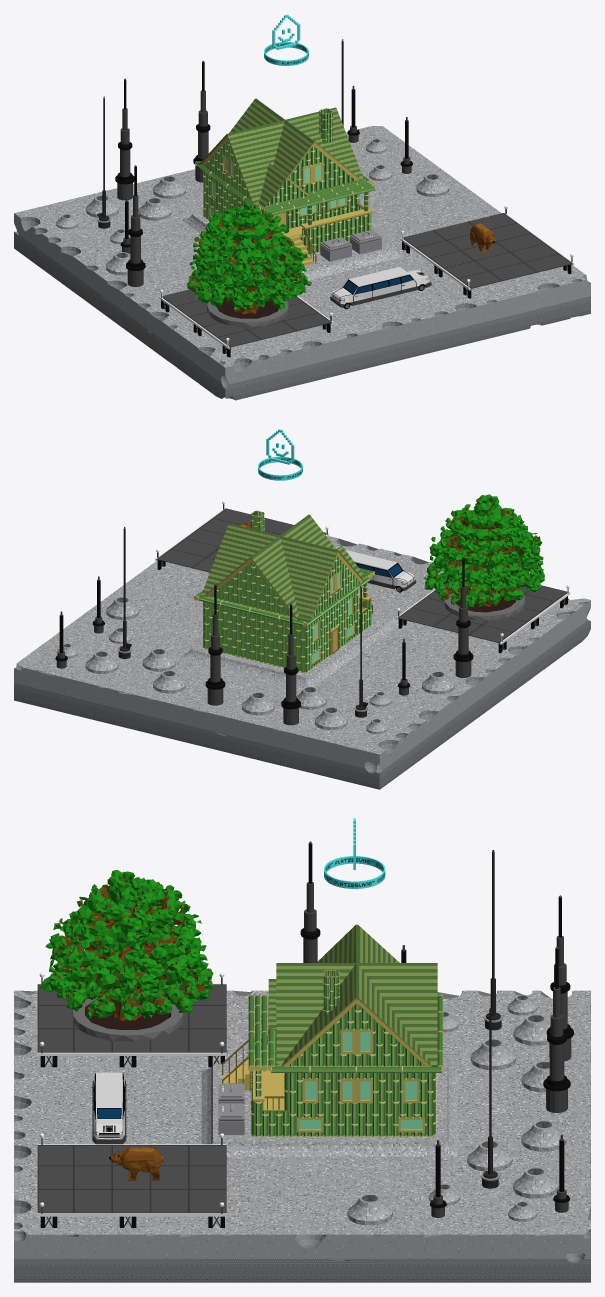
3 views of the same model, one above another, from view 1: azimuth 30°, elevation 25°; view 2: azimuth 150°, elevation 25°; view 3: azimuth 270°, elevation 25° (orthographic). The views are drawn at different scales.
Parts seen in each view (by area): view 1: Cube.027, Cube.1327, OBJRANDOM_CEIBA, Cube.026, Cube.025, VEHICLES_LIMOUSINE, Cube.028, Cylinder.021, Cylinder.020, TYPE_PREMIUM, Cylinder.017, Cube.029 (+5 smaller); view 2: Cube.027, Cube.1327, OBJRANDOM_CEIBA, Cube.025, Cube.028, Cube.026, VEHICLES_LIMOUSINE, Cylinder.017, Cylinder.021, Cylinder.020, TYPE_PREMIUM, Cylinder.030 (+8 smaller); view 3: Cube.027, Cube.1327, OBJRANDOM_CEIBA, Cube.026, Cube.028, Cube.025, VEHICLES_LIMOUSINE, Cylinder.017, Cylinder.020, Cylinder.021, ANIMAL_OSO, TYPE_PREMIUM (+12 smaller).
Part boxes in pixels (left/top/right/bottom): Cube.027: left=14, top=126, right=590, bottom=400; Cube.1327: left=195, top=98, right=375, bottom=265; OBJRANDOM_CEIBA: left=187, top=202, right=311, bottom=327; Cube.026: left=400, top=205, right=574, bottom=298; Cube.025: left=159, top=287, right=333, bottom=357; VEHICLES_LIMOUSINE: left=330, top=267, right=431, bottom=309; Cube.028: left=182, top=211, right=403, bottom=281; Cylinder.021: left=126, top=165, right=145, bottom=286; Cylinder.020: left=115, top=78, right=134, bottom=200; TYPE_PREMIUM: left=264, top=14, right=308, bottom=65; Cylinder.017: left=193, top=60, right=210, bottom=182; Cube.029: left=320, top=237, right=351, bottom=261; Cube.027: left=14, top=536, right=590, bottom=789; Cube.1327: left=193, top=510, right=374, bottom=672; OBJRANDOM_CEIBA: left=424, top=494, right=544, bottom=620; Cube.025: left=396, top=583, right=570, bottom=653; Cube.028: left=181, top=610, right=398, bottom=688; Cube.026: left=155, top=501, right=329, bottom=572; VEHICLES_LIMOUSINE: left=346, top=550, right=416, bottom=592; Cylinder.017: left=205, top=583, right=225, bottom=705; Cylinder.021: left=453, top=556, right=473, bottom=677; Cylinder.020: left=281, top=603, right=300, bottom=725; TYPE_PREMIUM: left=258, top=429, right=302, bottom=480; Cylinder.030: left=142, top=648, right=175, bottom=671; Cube.027: left=14, top=990, right=590, bottom=1282; Cube.1327: left=222, top=924, right=443, bottom=1137; OBJRANDOM_CEIBA: left=40, top=870, right=213, bottom=1041; Cube.026: left=37, top=1133, right=226, bottom=1227; Cube.028: left=201, top=1063, right=457, bottom=1156; Cube.025: left=37, top=973, right=226, bottom=1067; VEHICLES_LIMOUSINE: left=92, top=1072, right=126, bottom=1144; Cylinder.017: left=543, top=946, right=570, bottom=1112; Cylinder.020: left=546, top=895, right=573, bottom=1061; Cylinder.021: left=300, top=841, right=320, bottom=962; ANIMAL_OSO: left=109, top=1147, right=163, bottom=1180; TYPE_PREMIUM: left=324, top=818, right=385, bottom=888.
Bounding box in the file's own units: 4000 × 2711 × 4000.
34 materials, 6 textured.
